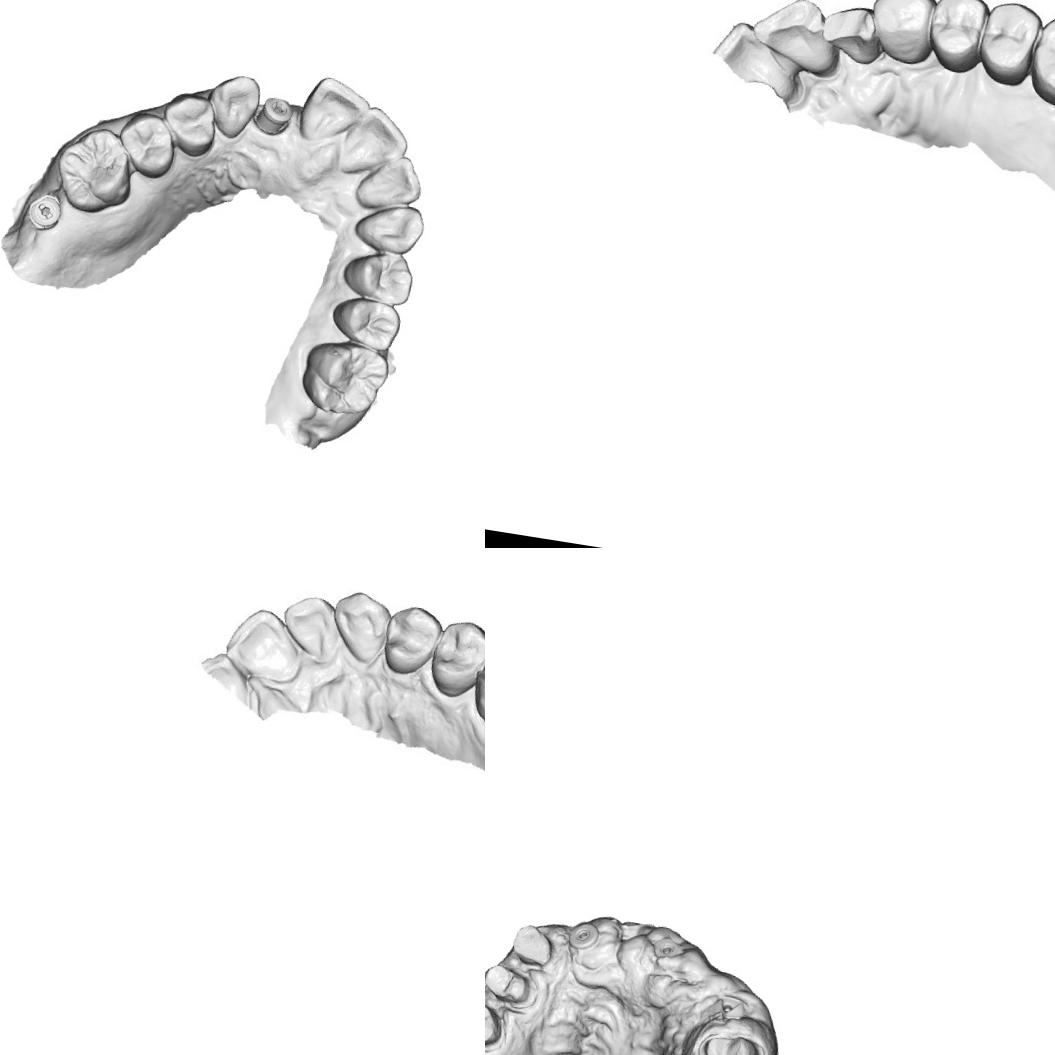canine: (331, 590, 399, 668), (350, 197, 430, 259), (202, 70, 263, 143), (868, 0, 934, 66)
crown: (509, 921, 557, 969), (485, 961, 533, 1005), (700, 1029, 766, 1055), (485, 996, 511, 1050)
implant: (565, 918, 602, 953), (650, 932, 689, 961)
implant_minus: (16, 180, 78, 246), (253, 94, 297, 140)
incisor: (217, 600, 310, 694), (746, 0, 841, 76), (334, 100, 414, 182), (294, 72, 374, 150), (274, 589, 349, 672), (352, 148, 426, 216), (813, 0, 884, 65)
molar: (50, 122, 140, 219), (296, 334, 393, 421), (1020, 8, 1055, 119)
premolar: (972, 0, 1045, 90), (336, 246, 418, 310), (426, 616, 485, 703), (922, 0, 989, 76), (114, 108, 180, 182), (327, 292, 404, 354), (158, 88, 222, 160), (382, 602, 442, 678)
